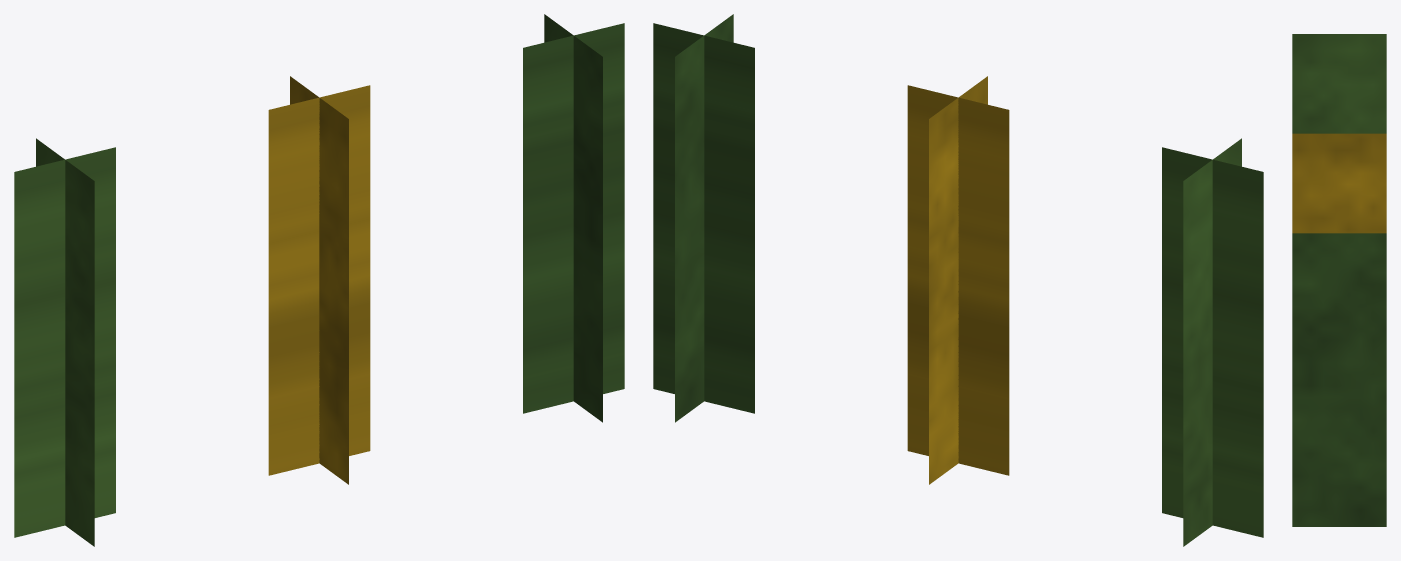
Rendered from tree_poplar_bb.glb.
The picture shows the model from 3 angles, left to right: view 1: azimuth 30°, elevation 25°; view 2: azimuth 150°, elevation 25°; view 3: azimuth 270°, elevation 25°; orthographic projection. The views are drawn at different scales.
Visible parts, largest first — view 1: tree_poplar_bb_v2, tree_poplar_bb_v1, tree_poplar_bb_v3; view 2: tree_poplar_bb_v2, tree_poplar_bb_v1, tree_poplar_bb_v3; view 3: tree_poplar_bb_v3, tree_poplar_bb_v2, tree_poplar_bb_v1.
Part boxes in pixels (x1,y1,x2,y2): tree_poplar_bb_v2: (268, 76, 370, 484); tree_poplar_bb_v1: (14, 138, 115, 546); tree_poplar_bb_v3: (523, 14, 624, 422); tree_poplar_bb_v2: (907, 76, 1009, 484); tree_poplar_bb_v1: (1162, 138, 1263, 546); tree_poplar_bb_v3: (653, 14, 754, 422); tree_poplar_bb_v3: (1292, 233, 1386, 526); tree_poplar_bb_v2: (1292, 133, 1386, 233); tree_poplar_bb_v1: (1292, 34, 1386, 133).
Size of the model in its own units: 19.2 by 11 by 3.2.
1 material, 1 textured.
